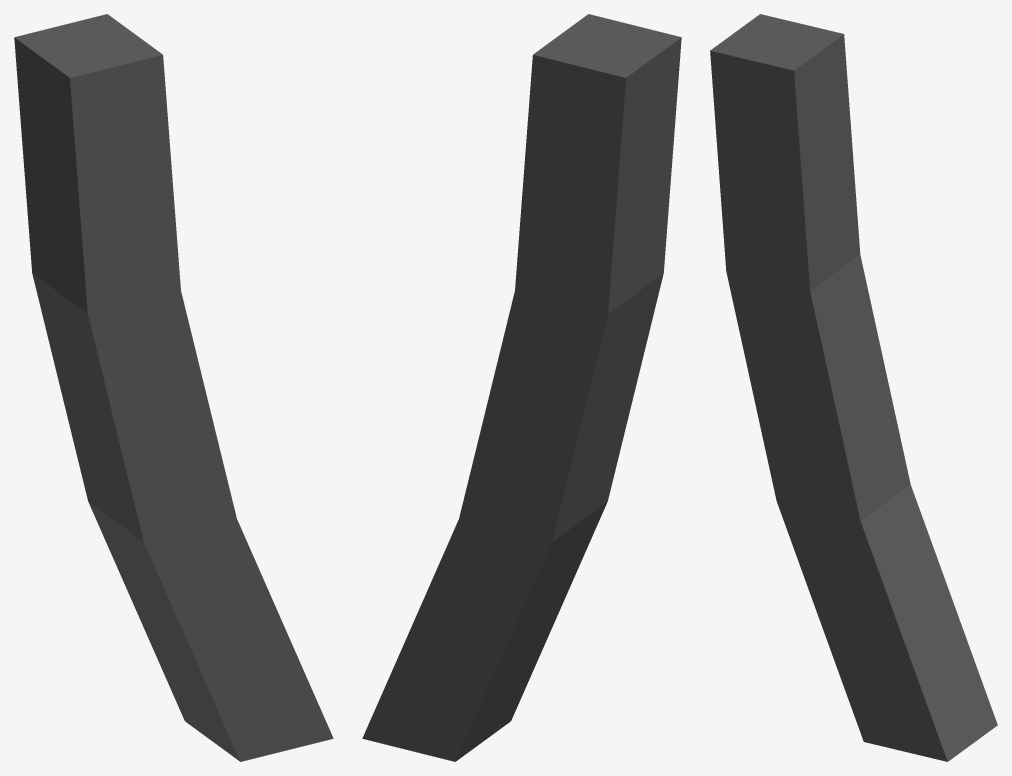
File: MP5 SMG Magazine.obj
3 views of the same model, side by side, from view 1: azimuth 30°, elevation 25°; view 2: azimuth 150°, elevation 25°; view 3: azimuth 330°, elevation 25° (orthographic). The views are drawn at different scales.
Visible parts, largest first — view 1: MP5_Magazine_Cube.002; view 2: MP5_Magazine_Cube.002; view 3: MP5_Magazine_Cube.002.
Part boxes in pixels (left/top/right/bottom): MP5_Magazine_Cube.002: left=14, top=14, right=333, bottom=761; MP5_Magazine_Cube.002: left=362, top=14, right=681, bottom=761; MP5_Magazine_Cube.002: left=710, top=14, right=997, bottom=761.
Size of the model in its own units: 0.5057 by 1.33 by 0.1847.
